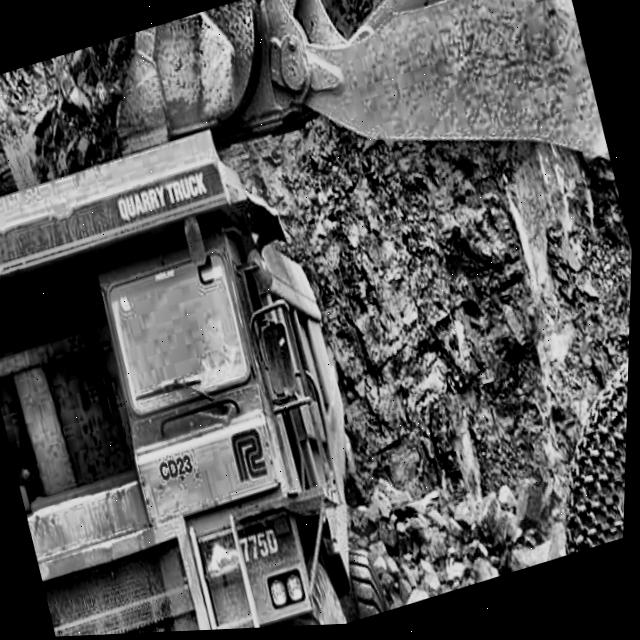buldozerpayloadergrader: (112, 0, 640, 636)
dump_truck: (0, 83, 409, 640)
